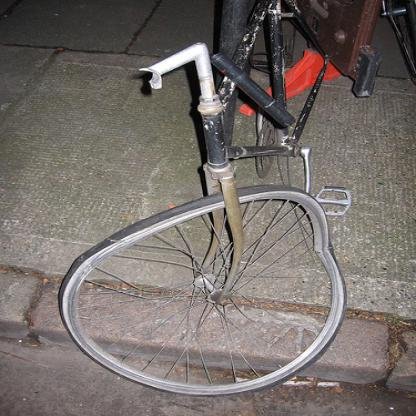bicycle: (57, 0, 382, 398)
